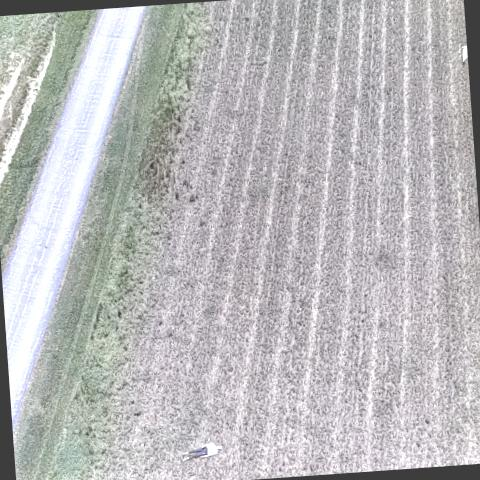person: (178, 439, 224, 464), (460, 41, 468, 65)
